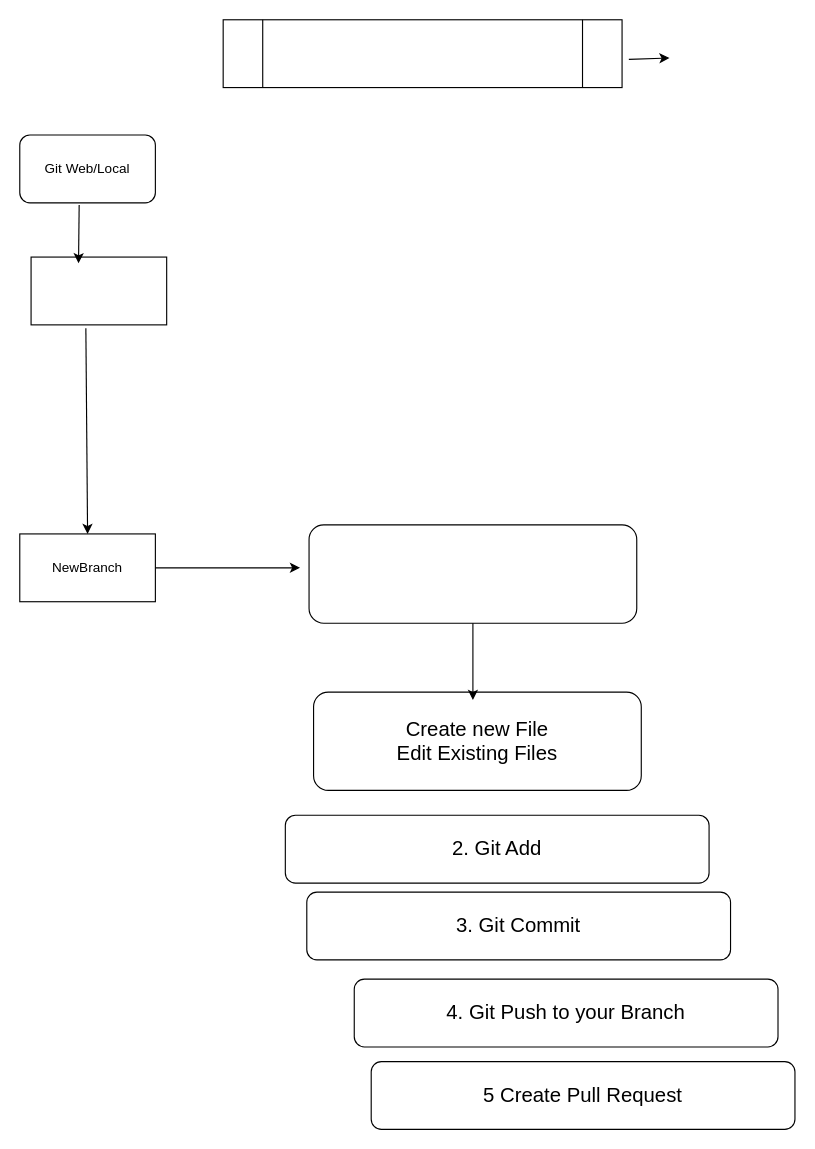
Some shapes in this 815 by 1149 pixel diagram are drawn without their labels. Each missing label, with the box of its shape:
1. Clone: (30, 256, 167, 325)
1. New File ( local) 2. New File (Web): (222, 19, 622, 88)
1. Pull Updates from Master: (308, 524, 637, 623)
